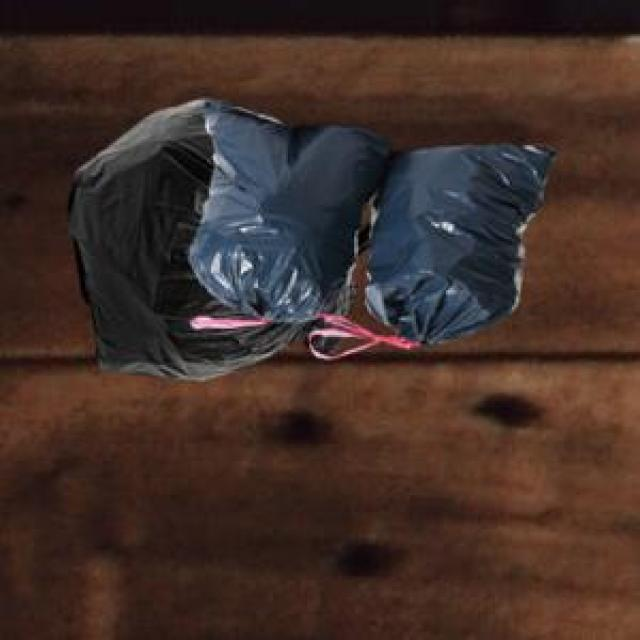waste: (69, 100, 554, 378)
